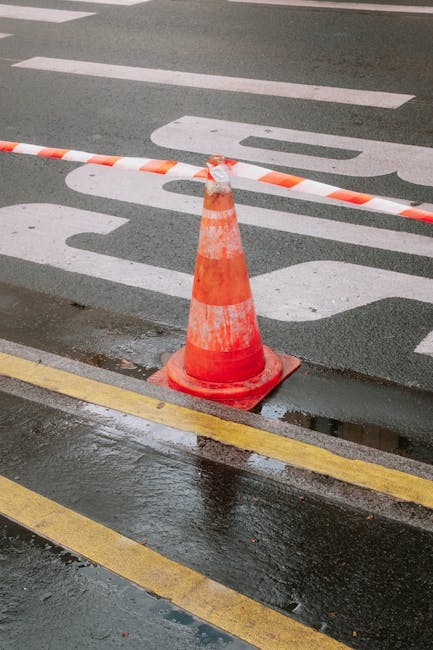traffic_cone: (146, 155, 302, 412)
